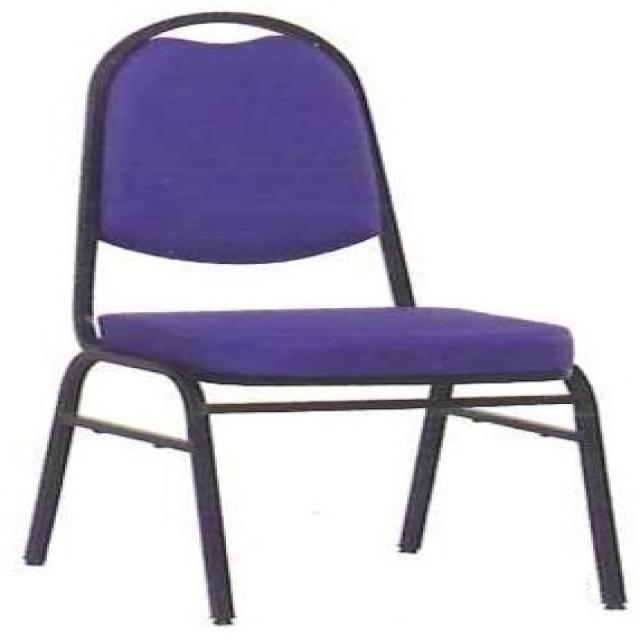chair: (20, 7, 640, 630)
